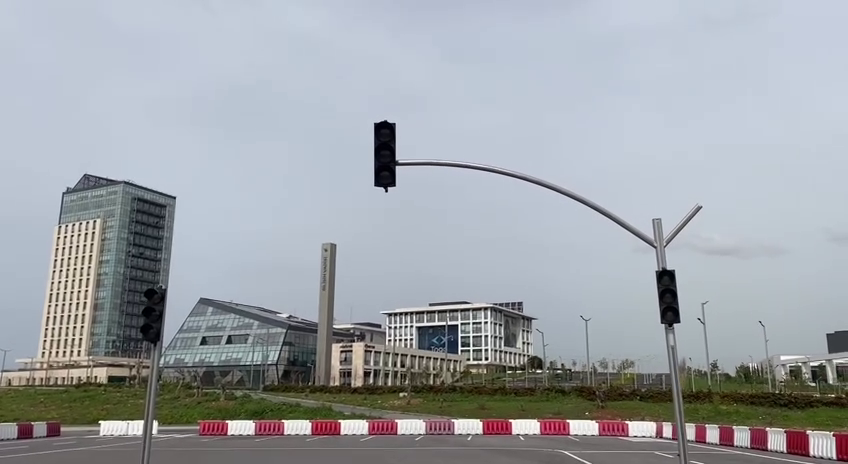trafficLight: (368, 116, 401, 194), (138, 280, 171, 348), (651, 265, 685, 328)
